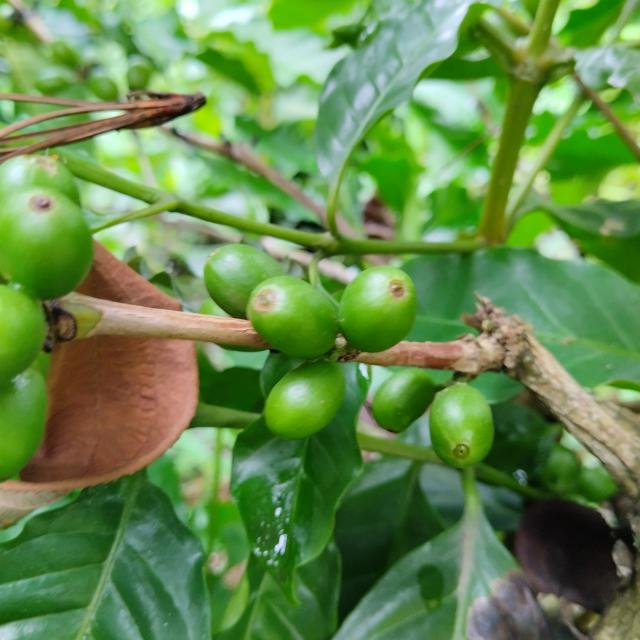green: (0, 188, 92, 300), (246, 276, 339, 360), (264, 358, 346, 441), (339, 266, 418, 352), (204, 244, 284, 319), (430, 384, 495, 469), (372, 368, 436, 433), (0, 154, 79, 205)
